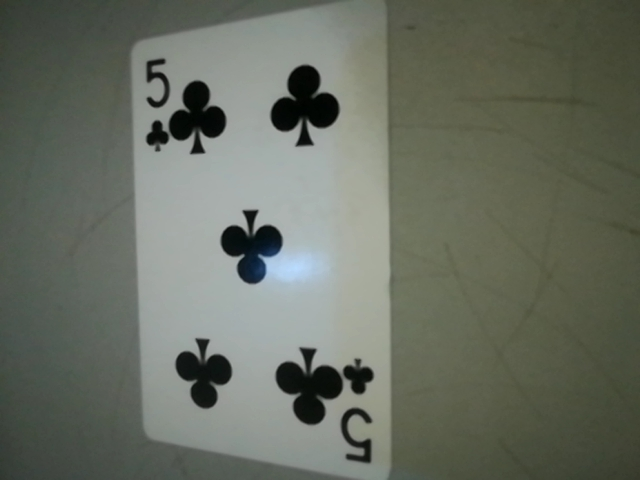mh 5: (340, 353, 389, 474)
